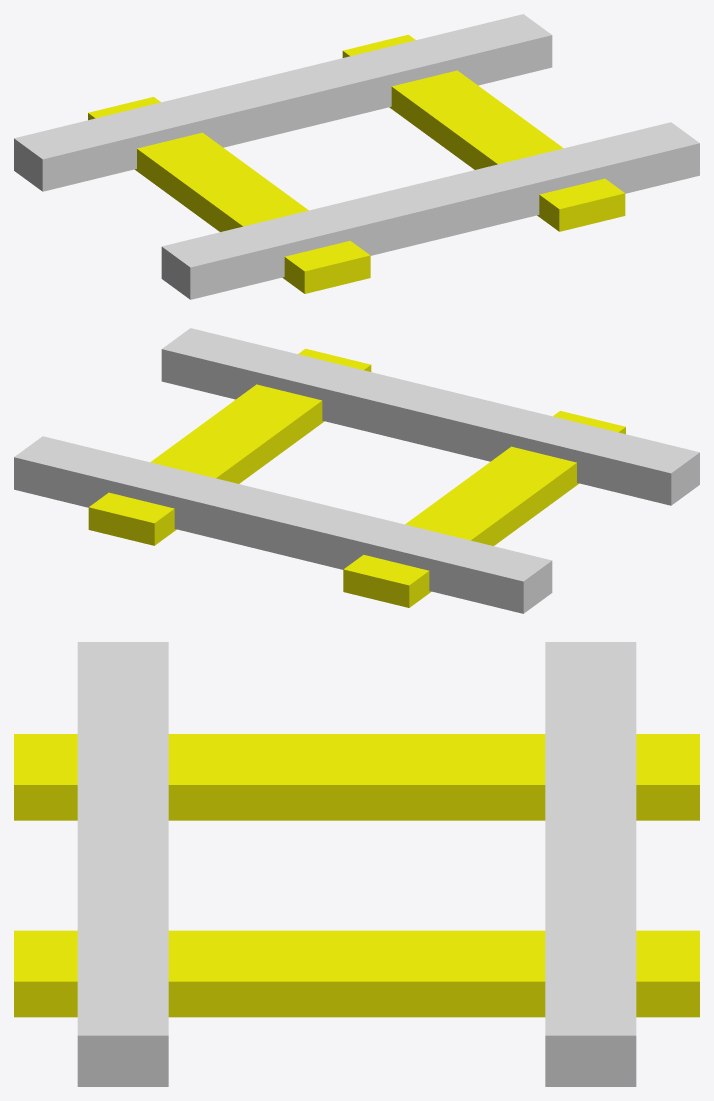
File: Rail_Straight.glb
3 renders of one model, top to bottom at view 1: azimuth 30°, elevation 25°; view 2: azimuth 150°, elevation 25°; view 3: azimuth 270°, elevation 25°, orthographic. The views are drawn at different scales.
Visible parts, largest first — view 1: Rail_Straight; view 2: Rail_Straight; view 3: Rail_Straight.
Part boxes in pixels (box(x1,y1,x2,y2)): Rail_Straight: box(14, 14, 699, 299); Rail_Straight: box(14, 328, 699, 613); Rail_Straight: box(14, 642, 699, 1086).
Bounding box in the file's own units: 2 × 0.1305 × 1.47.
Materials: 2 (1 with a texture image).
